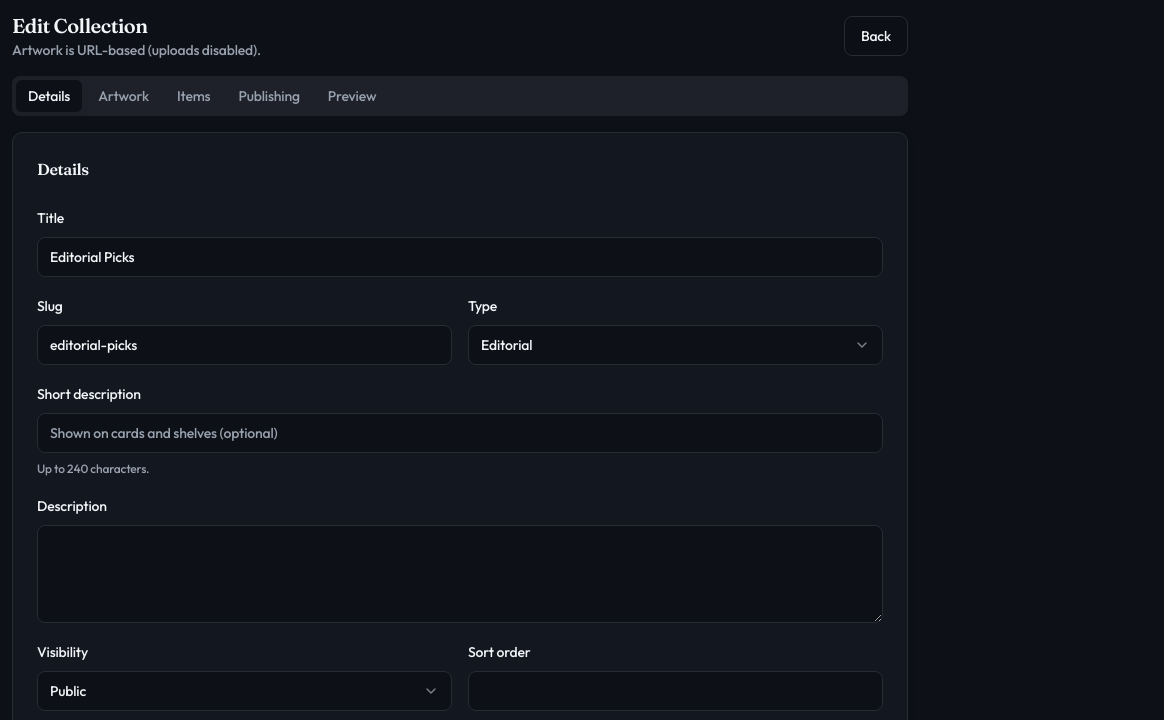
Test case: admin collections pages › renders Items and Publishing tabs with reorder controls when editing
Note: Radix TabsTrigger activates on mousedown (automatic activation mode), not click.
Press the mouse on the tab "Items" at (194, 96), box [165,80,222,112]
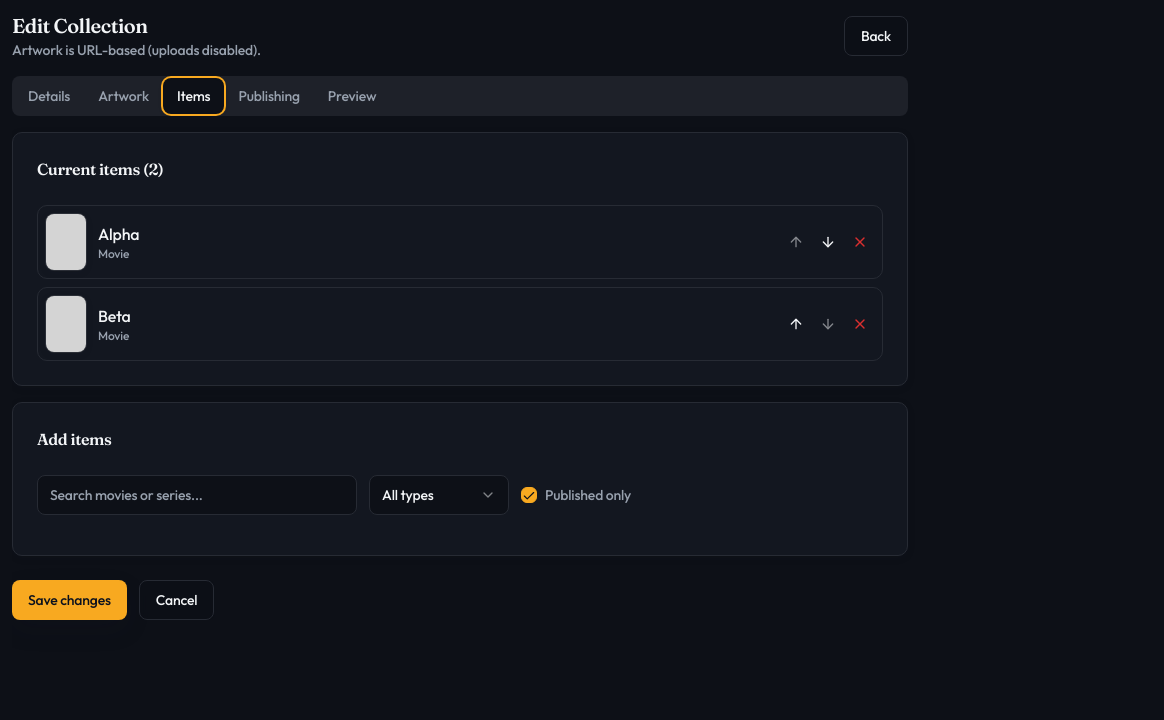
Expected: the list with test id "collection-items-list" is shown, [37,205,883,361]
Expected: the button with test id "collection-item-up-1" is disabled, [782,228,810,256]
Expected: the button with test id "collection-item-down-2" is disabled, [814,310,842,338]
Press the mouse on the tab "Publishing" at (269, 96), box [226,80,312,112]
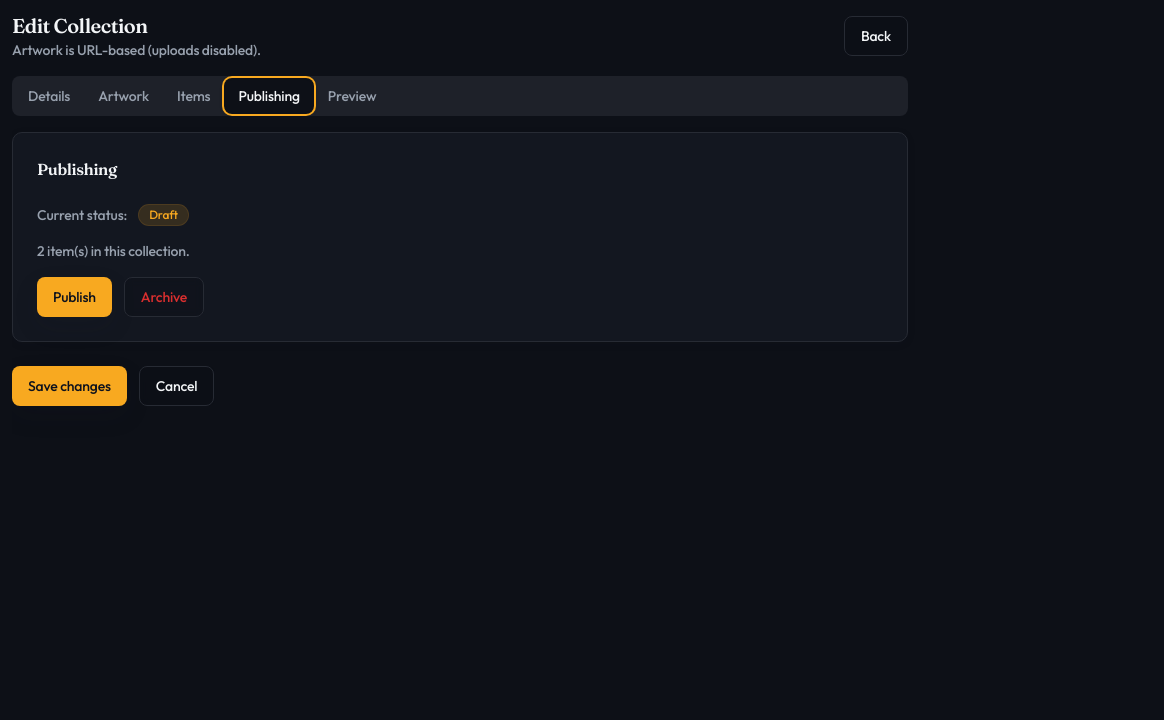
Expected: the button with test id "collection-publish" is shown, [37,277,112,317]
